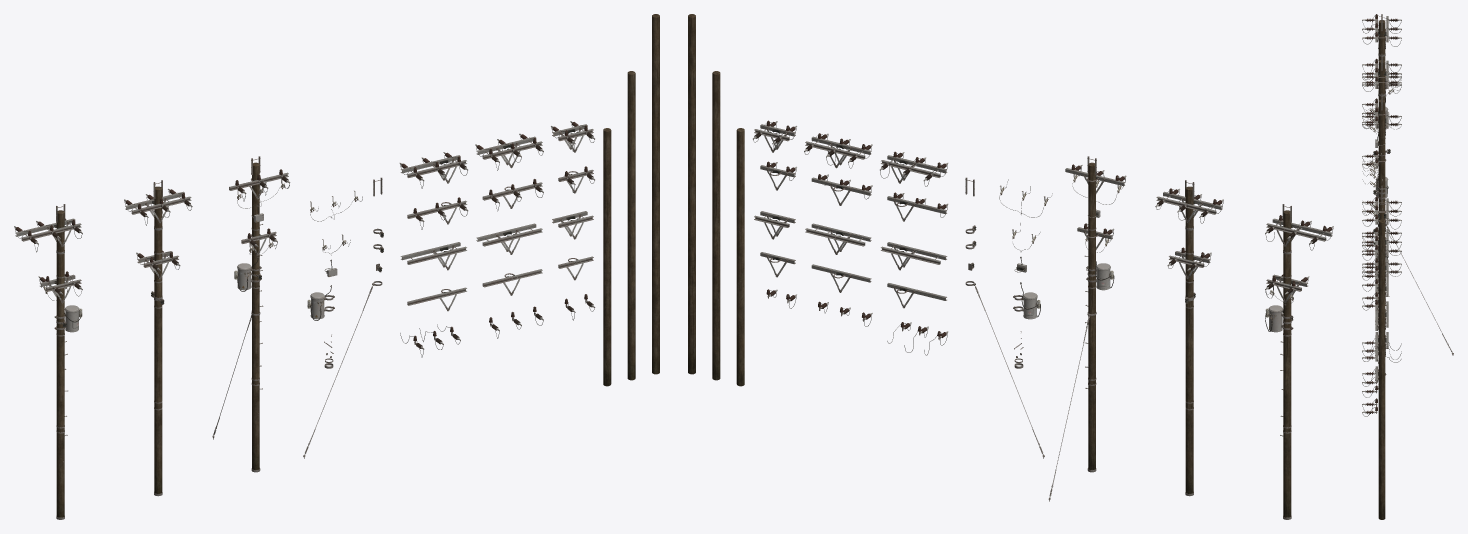
Rendered from modular_electricity_poles.glb.
The picture shows the model from 3 angles, left to right: view 1: azimuth 30°, elevation 25°; view 2: azimuth 150°, elevation 25°; view 3: azimuth 270°, elevation 25°; orthographic projection. The views are drawn at different scales.
Parts seen in each view (by area): view 1: pole_large, pole, preset_03_pole, preset_02_pole, pole_small, preset_01_pole, connection_large_01, connection_large_offset_01, preset_02_connection_large_01, preset_03_connection_large_offset_01, support_large_01, support_large_offset_01; view 2: pole_large, pole, preset_02_pole, preset_03_pole, preset_01_pole, pole_small, connection_large_01, connection_large_offset_01, preset_02_connection_large_01, preset_03_connection_large_offset_01, support_large_01, support_large_offset_01; view 3: pole_large, preset_01_pole, connection_large_offset_01, preset_03_connection_large_offset_01, preset_02_connection_large_01, connection_large_01, connection_small_01, preset_03_pole, preset_02_pole, preset_01_connection_large_02, preset_02_connection_small_01, preset_03_connection_small_01_02 (+10 smaller).
Part boxes in pixels (<box>): pole_large: <box>652,14,659,374</box>; pole: <box>627,71,635,380</box>; preset_03_pole: <box>56,210,64,517</box>; preset_02_pole: <box>154,186,162,493</box>; pole_small: <box>603,128,611,386</box>; preset_01_pole: <box>252,162,259,469</box>; connection_large_01: <box>475,133,543,170</box>; connection_large_offset_01: <box>399,152,467,188</box>; preset_02_connection_large_01: <box>124,188,192,225</box>; preset_03_connection_large_offset_01: <box>14,218,82,252</box>; support_large_01: <box>476,223,542,254</box>; support_large_offset_01: <box>400,242,466,270</box>; pole_large: <box>688,14,695,374</box>; pole: <box>712,71,720,380</box>; preset_02_pole: <box>1185,186,1193,493</box>; preset_03_pole: <box>1283,210,1291,517</box>; preset_01_pole: <box>1088,162,1095,469</box>; pole_small: <box>736,128,744,386</box>; connection_large_01: <box>804,133,872,168</box>; connection_large_offset_01: <box>880,151,948,186</box>; preset_02_connection_large_01: <box>1155,188,1223,223</box>; preset_03_connection_large_offset_01: <box>1265,215,1333,250</box>; support_large_01: <box>805,223,871,254</box>; support_large_offset_01: <box>881,242,947,270</box>; pole_large: <box>1378,219,1385,519</box>; preset_01_pole: <box>1378,99,1385,219</box>; connection_large_offset_01: <box>1362,196,1401,231</box>; preset_03_connection_large_offset_01: <box>1362,14,1401,49</box>; preset_02_connection_large_01: <box>1362,58,1401,88</box>; connection_large_01: <box>1362,227,1401,257</box>; connection_small_01: <box>1362,258,1401,282</box>; preset_03_pole: <box>1378,20,1385,60</box>; preset_02_pole: <box>1378,60,1385,100</box>; preset_01_connection_large_02: <box>1362,98,1386,128</box>; preset_02_connection_small_01: <box>1362,112,1401,135</box>; preset_03_connection_small_01_02: <box>1362,74,1401,95</box>.
Bounding box in the file's own units: 13.12 × 7 × 1.96.
2 materials, 2 textured.
